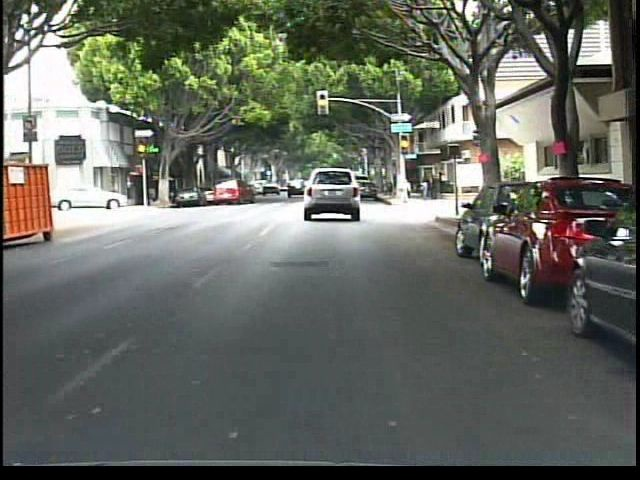person: (420, 172, 432, 202)
